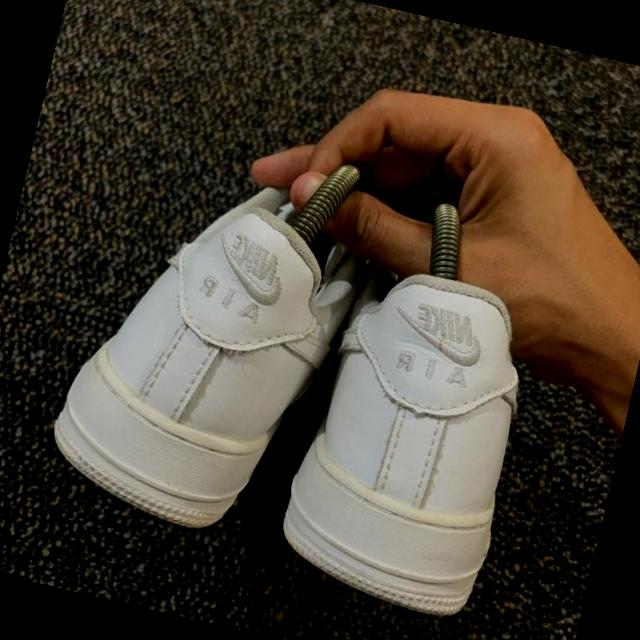nike_fake_airforce: (35, 82, 398, 560), (257, 248, 544, 626)
